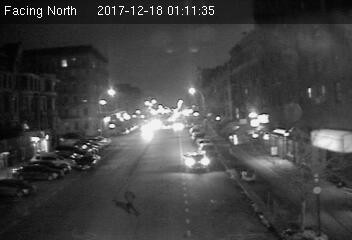car: (182, 151, 213, 170), (75, 153, 101, 170)
pedestrian: (121, 186, 142, 219)
